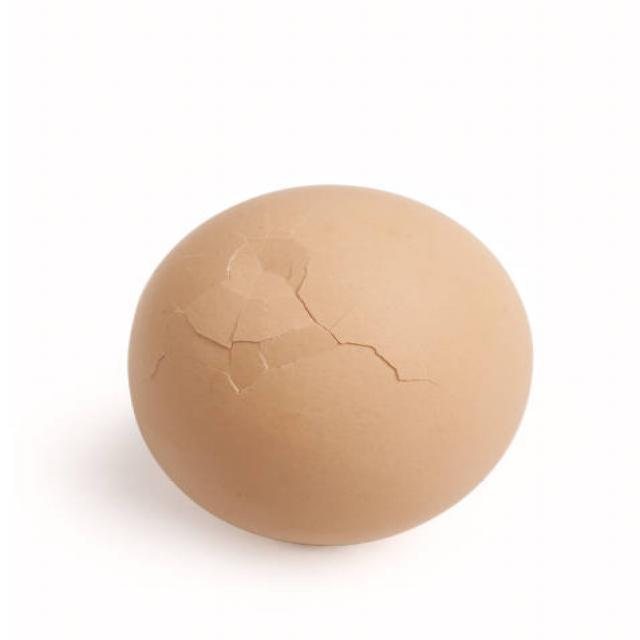biodegradable: (116, 158, 543, 568)
